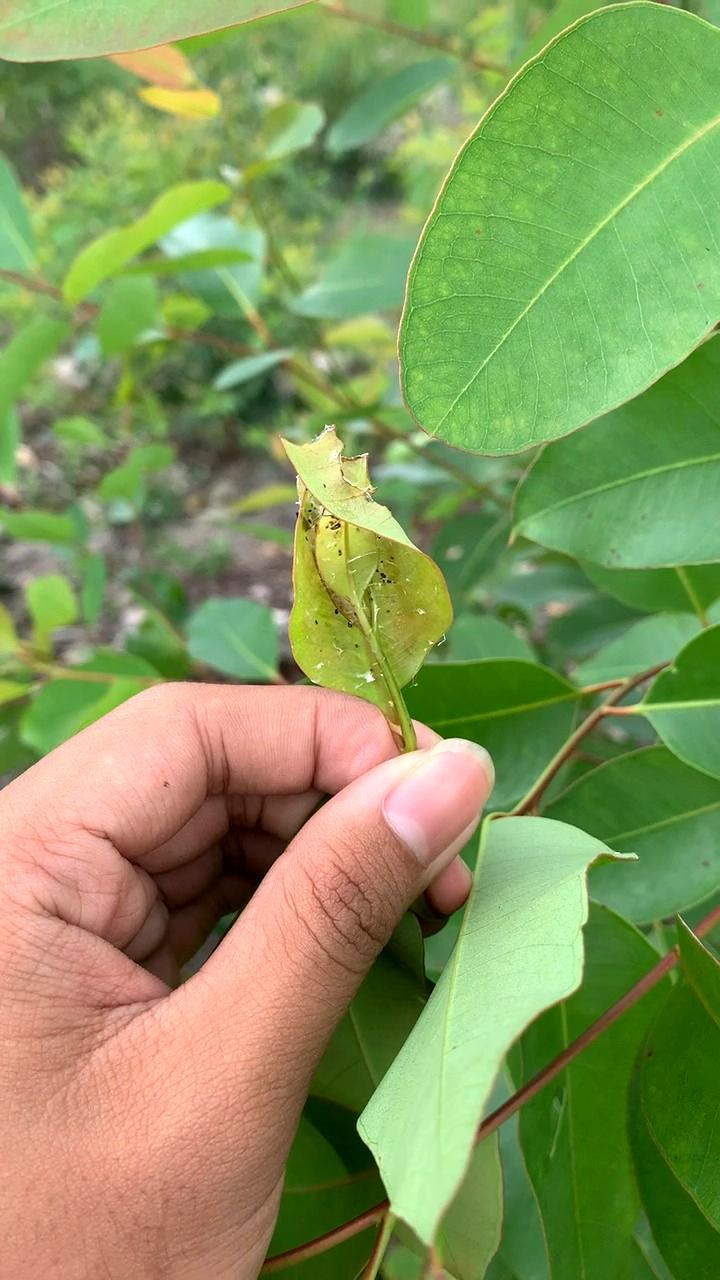Leaf Roller - Leaf: (263, 416, 471, 729)
